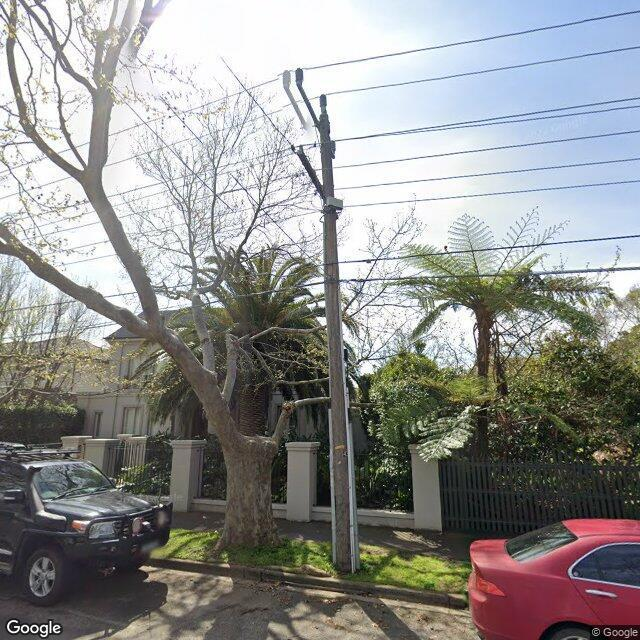HV-transmission: (282, 66, 336, 159)
crossarm: (284, 86, 335, 159), (298, 149, 326, 202)
timber-pole: (316, 112, 356, 576)
